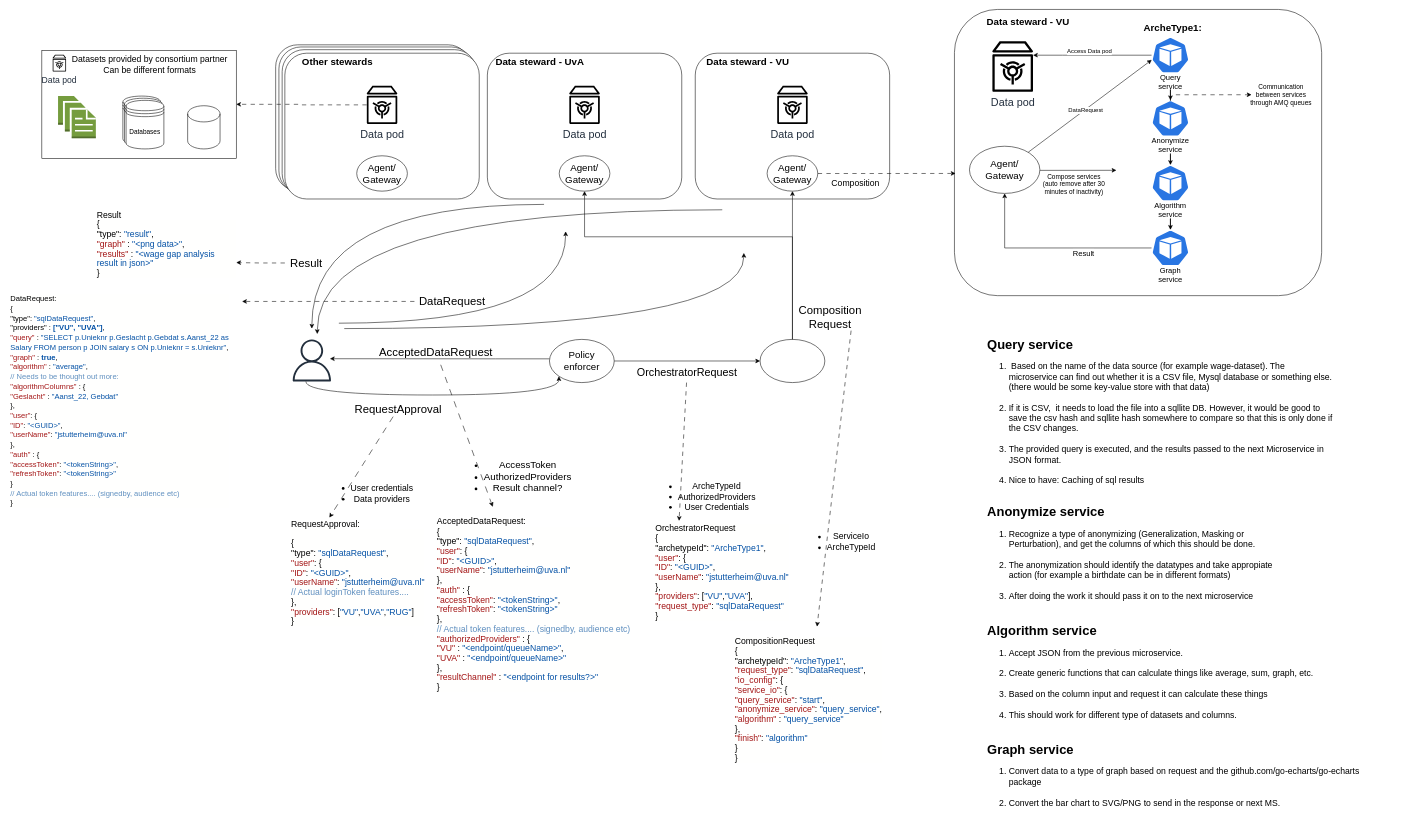
Some shapes in this 1404 by 824 pixel diagram are drawn without their labels. The box of each missing label's shape, as (x1, y1, x2, y2) in pixels:
CSV files: (58, 96, 96, 138)
Orchestrator: (760, 339, 825, 383)
Other: (187, 105, 220, 149)
User: (291, 339, 333, 381)
